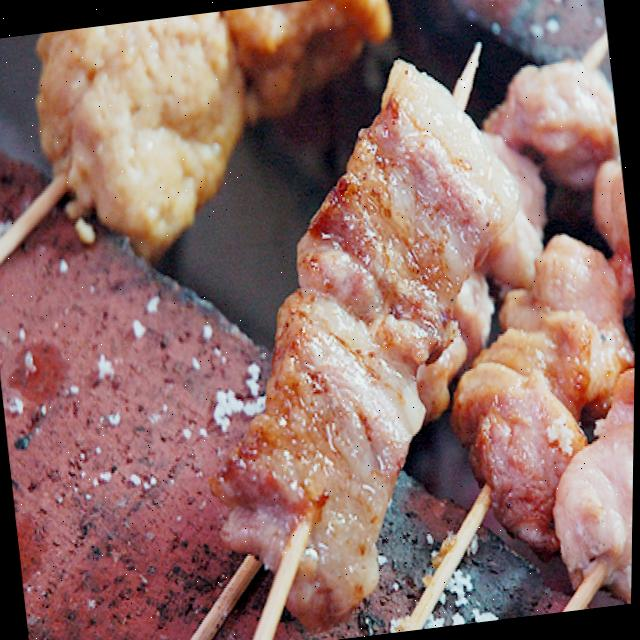烧串烤肉: (155, 3, 640, 640)
